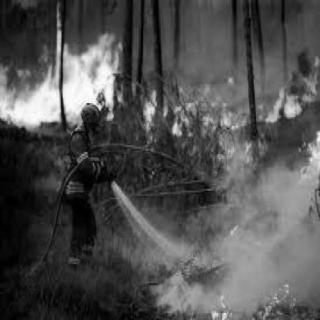Fire: (2, 22, 118, 128), (144, 83, 158, 135)
